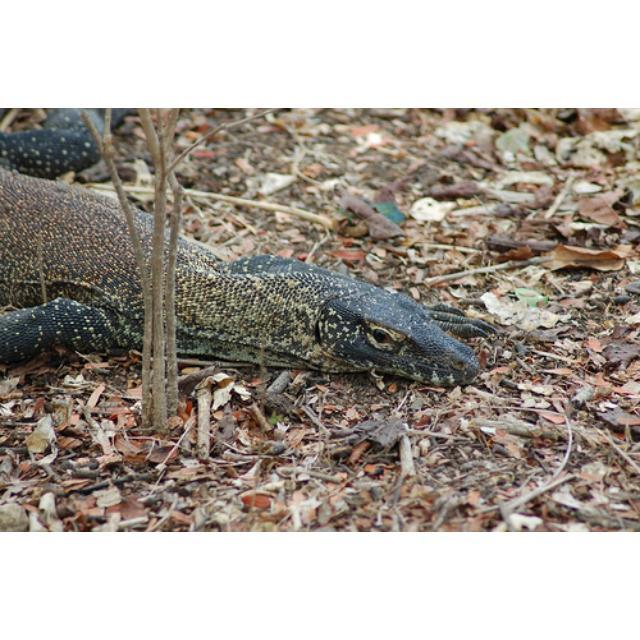KomodoDragon: (0, 108, 496, 390)
